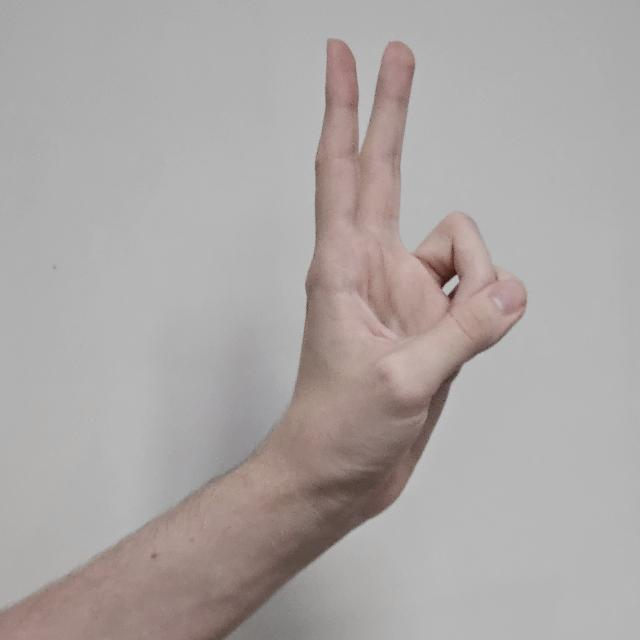Triangulo: (0, 40, 527, 640)
